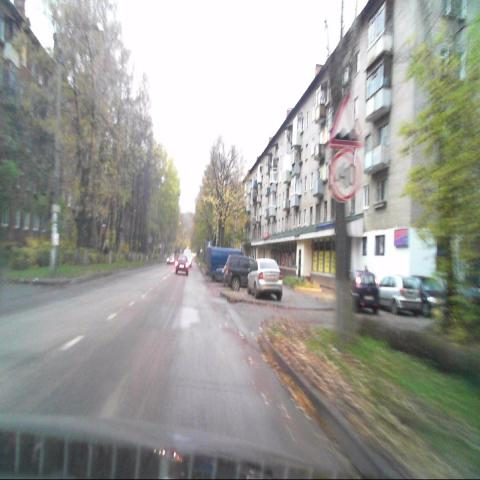1_16: (330, 93, 364, 147)
3_24: (332, 149, 360, 199)
